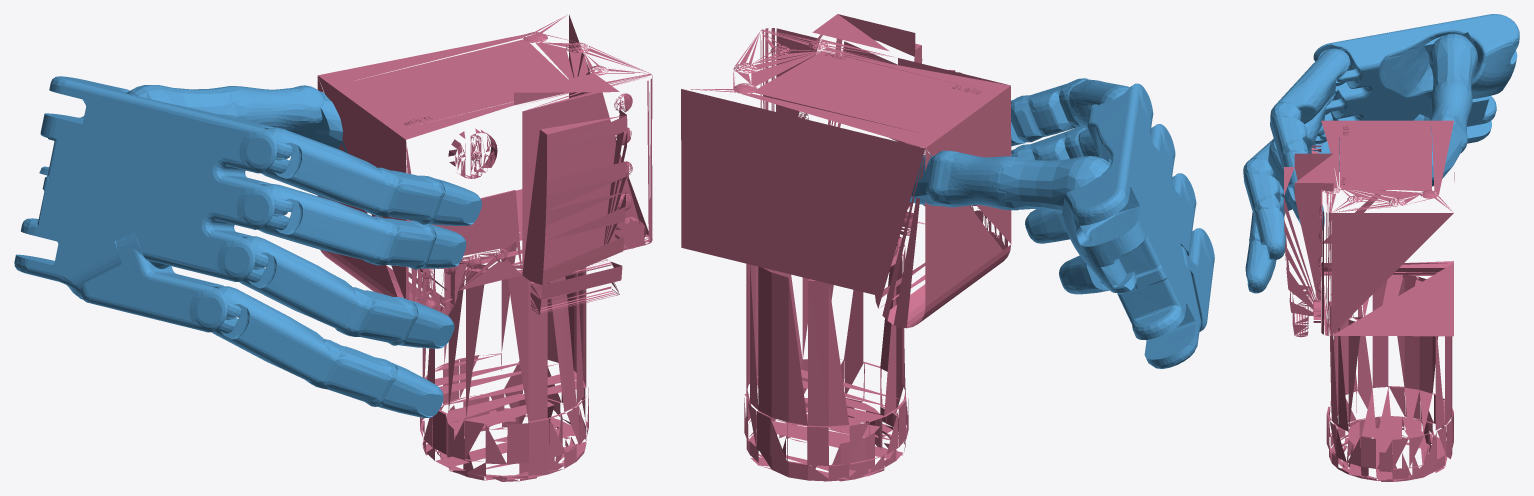
The picture shows the model from 3 angles, left to right: view 1: azimuth 30°, elevation 25°; view 2: azimuth 150°, elevation 25°; view 3: azimuth 270°, elevation 25°; orthographic projection. The views are drawn at different scales.
Parts seen in each view (by area): view 1: 9; view 2: 9; view 3: 9.
Boxes of the visible parts, <box> form: 9: <box>14,14,652,481</box>; 9: <box>681,14,1214,481</box>; 9: <box>1243,14,1519,481</box>.
Bounding box in the file's own units: 0.2462 × 0.1837 × 0.1455.
